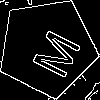M: (22, 22, 83, 81)
